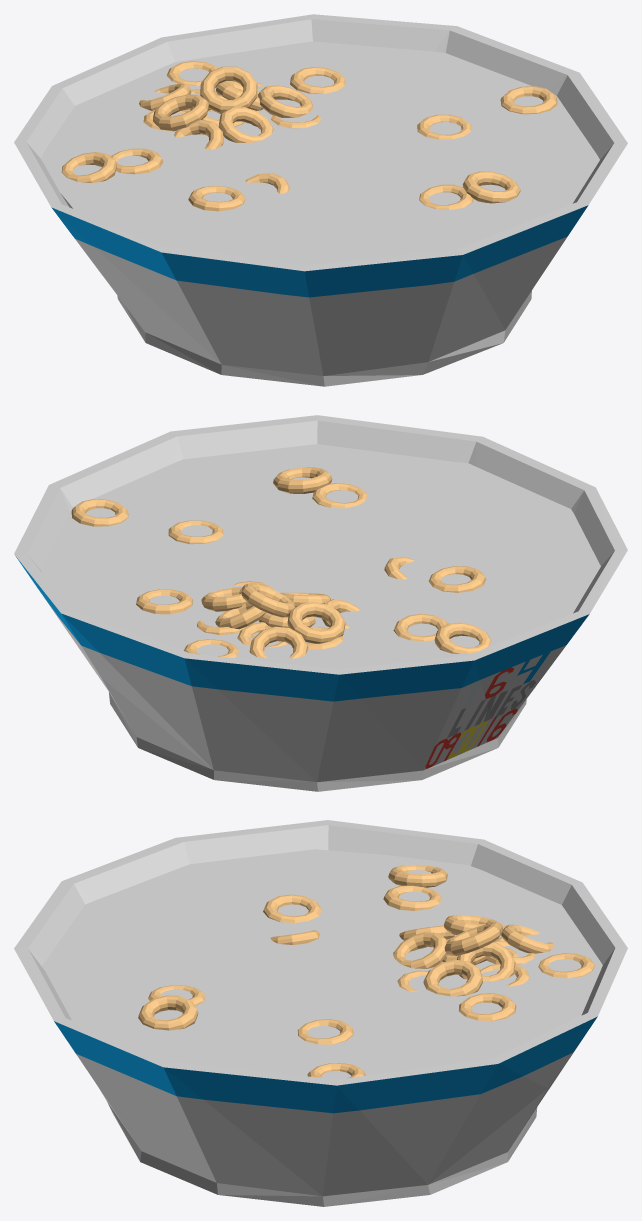
The model's file is bowlmodel.fbx.
3 renders of one model, top to bottom at view 1: azimuth 30°, elevation 25°; view 2: azimuth 150°, elevation 25°; view 3: azimuth 270°, elevation 25°, orthographic. The views are drawn at different scales.
Parts seen in each view (by area): view 1: mesh_465620172, group_539824971, mesh_1338128504, mesh_1987331289, mesh_1211081512, mesh_2006247618, mesh_482135429, mesh_659447836, mesh_974178440, mesh_1056907677, mesh_707040266, mesh_1650281695 (+6 smaller); view 2: mesh_465620172, group_539824971, mesh_1987331289, mesh_1211081512, mesh_659447836, mesh_1338128504, mesh_355843556, mesh_974178440, mesh_707040266, mesh_1056907677, mesh_1436387716, mesh_1650281695 (+3 smaller); view 3: mesh_465620172, group_539824971, mesh_1211081512, mesh_482135429, mesh_2006247618, mesh_1338128504, mesh_659447836, mesh_707040266, mesh_1056907677, mesh_1436387716, mesh_1650281695, mesh_355843556 (+4 smaller).
Boxes of the visible parts, bbox=[...] form: mesh_465620172: bbox=[40, 41, 599, 265]; group_539824971: bbox=[14, 14, 627, 386]; mesh_1338128504: bbox=[200, 66, 257, 114]; mesh_1987331289: bbox=[153, 94, 208, 131]; mesh_1211081512: bbox=[462, 171, 520, 203]; mesh_2006247618: bbox=[218, 107, 273, 142]; mesh_482135429: bbox=[258, 85, 313, 117]; mesh_659447836: bbox=[61, 152, 116, 183]; mesh_974178440: bbox=[500, 86, 557, 114]; mesh_1056907677: bbox=[290, 67, 346, 93]; mesh_707040266: bbox=[188, 186, 245, 211]; mesh_1650281695: bbox=[111, 148, 163, 174]; mesh_465620172: bbox=[41, 444, 600, 669]; group_539824971: bbox=[14, 415, 627, 791]; mesh_1987331289: bbox=[287, 602, 345, 643]; mesh_1211081512: bbox=[273, 467, 332, 493]; mesh_659447836: bbox=[434, 622, 491, 653]; mesh_1338128504: bbox=[241, 583, 295, 617]; mesh_355843556: bbox=[249, 626, 307, 658]; mesh_974178440: bbox=[71, 499, 128, 526]; mesh_707040266: bbox=[428, 566, 486, 592]; mesh_1056907677: bbox=[136, 589, 192, 614]; mesh_1436387716: bbox=[215, 602, 266, 629]; mesh_1650281695: bbox=[393, 613, 447, 641]; mesh_465620172: bbox=[41, 849, 602, 1079]; group_539824971: bbox=[14, 820, 627, 1206]; mesh_1211081512: bbox=[138, 995, 198, 1030]; mesh_482135429: bbox=[423, 959, 482, 996]; mesh_2006247618: bbox=[393, 932, 447, 968]; mesh_1338128504: bbox=[444, 924, 501, 955]; mesh_659447836: bbox=[388, 864, 447, 887]; mesh_707040266: bbox=[263, 894, 321, 922]; mesh_1056907677: bbox=[459, 993, 516, 1021]; mesh_1436387716: bbox=[457, 942, 515, 981]; mesh_1650281695: bbox=[383, 885, 441, 910]; mesh_355843556: bbox=[501, 924, 554, 953].
Size of the model in its own units: 64.83 by 20.53 by 63.
